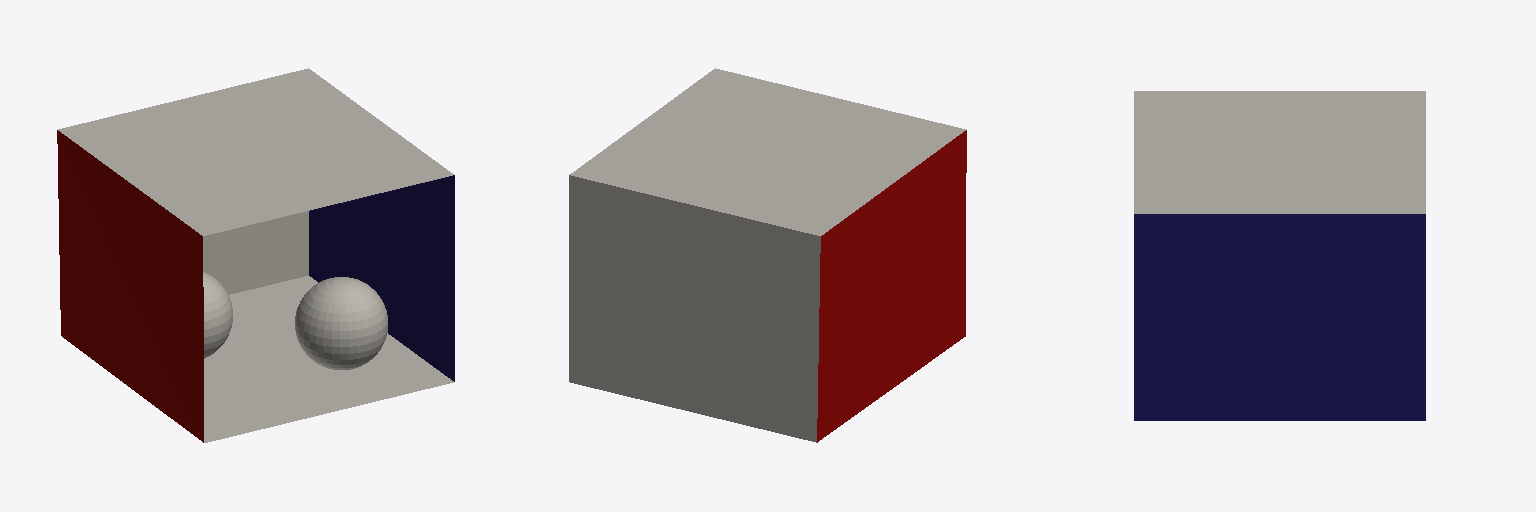
The picture shows the model from 3 angles: view 1: azimuth 30°, elevation 25°; view 2: azimuth 150°, elevation 25°; view 3: azimuth 270°, elevation 25°; orthographic projection.
Visible parts, largest first — view 1: ceiling, leftWall, floor, rightWall, rightSphere, backWall, leftSphere; view 2: backWall, ceiling, leftWall; view 3: rightWall, ceiling.
Part boxes in pixels (bbox=[...]): ceiling: bbox=[58, 68, 453, 235]; leftWall: bbox=[57, 130, 203, 442]; floor: bbox=[204, 276, 453, 442]; rightWall: bbox=[309, 175, 454, 381]; rightSphere: bbox=[295, 277, 387, 369]; backWall: bbox=[203, 211, 308, 294]; leftSphere: bbox=[203, 272, 232, 358]; backWall: bbox=[569, 175, 820, 442]; ceiling: bbox=[570, 68, 965, 235]; leftWall: bbox=[817, 130, 966, 442]; rightWall: bbox=[1134, 214, 1425, 420]; ceiling: bbox=[1134, 91, 1425, 213].
Bounding box in the file's own units: 2.02 × 1.59 × 2.03.